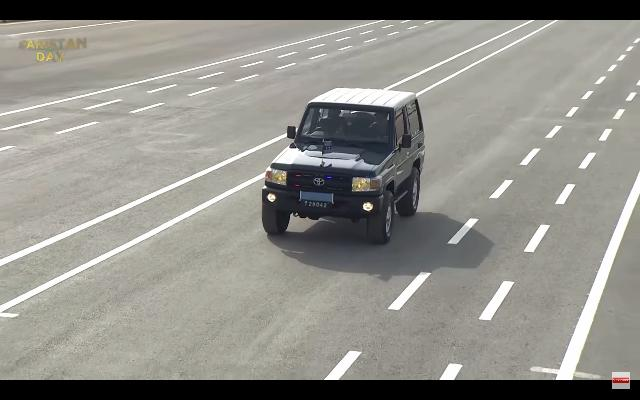plate: (303, 200, 329, 210)
